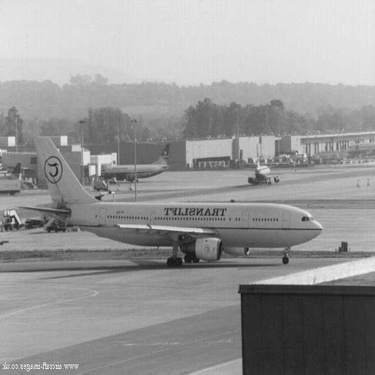airplane: (16, 106, 332, 285), (80, 131, 175, 186), (222, 148, 287, 191)
